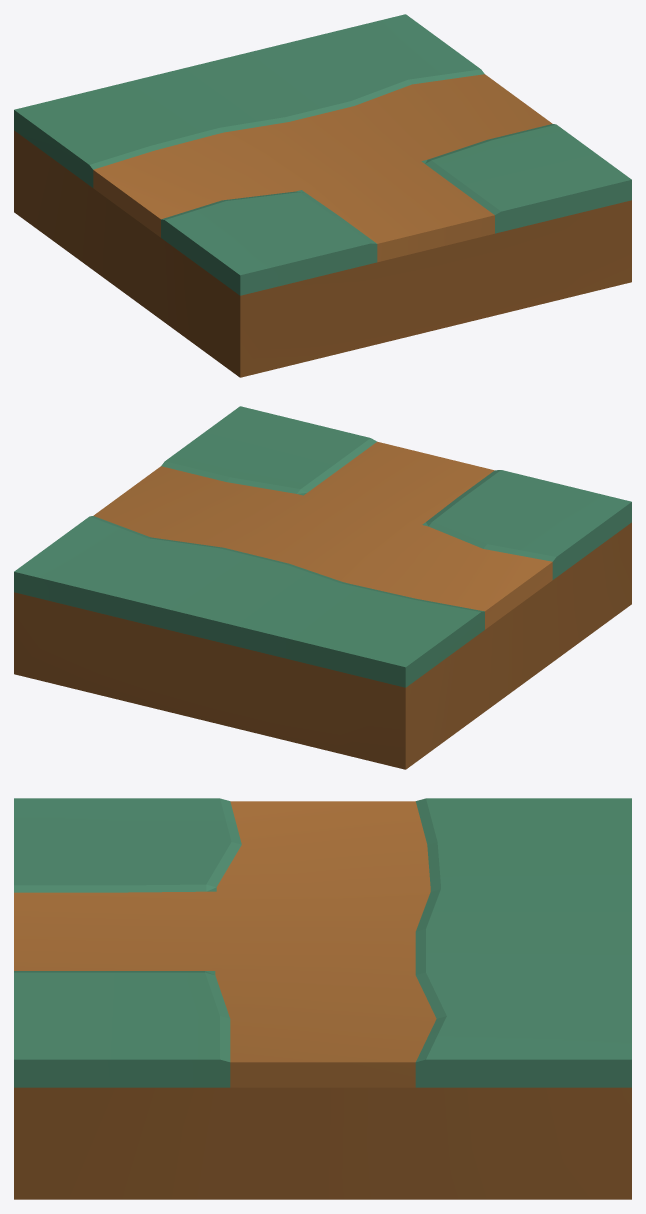
The model's file is Ground_Trail_03.fbx.
The picture shows the model from 3 angles, top to bottom: view 1: azimuth 30°, elevation 25°; view 2: azimuth 150°, elevation 25°; view 3: azimuth 270°, elevation 25°; orthographic projection. The views are drawn at different scales.
Visible parts, largest first — view 1: Ground_Trail_03; view 2: Ground_Trail_03; view 3: Ground_Trail_03.
Part boxes in pixels (x1,y1,x2,y2): Ground_Trail_03: [14, 14, 631, 377]; Ground_Trail_03: [14, 406, 631, 769]; Ground_Trail_03: [14, 798, 631, 1199].
Bounding box in the file's own units: 40 × 10 × 40.
